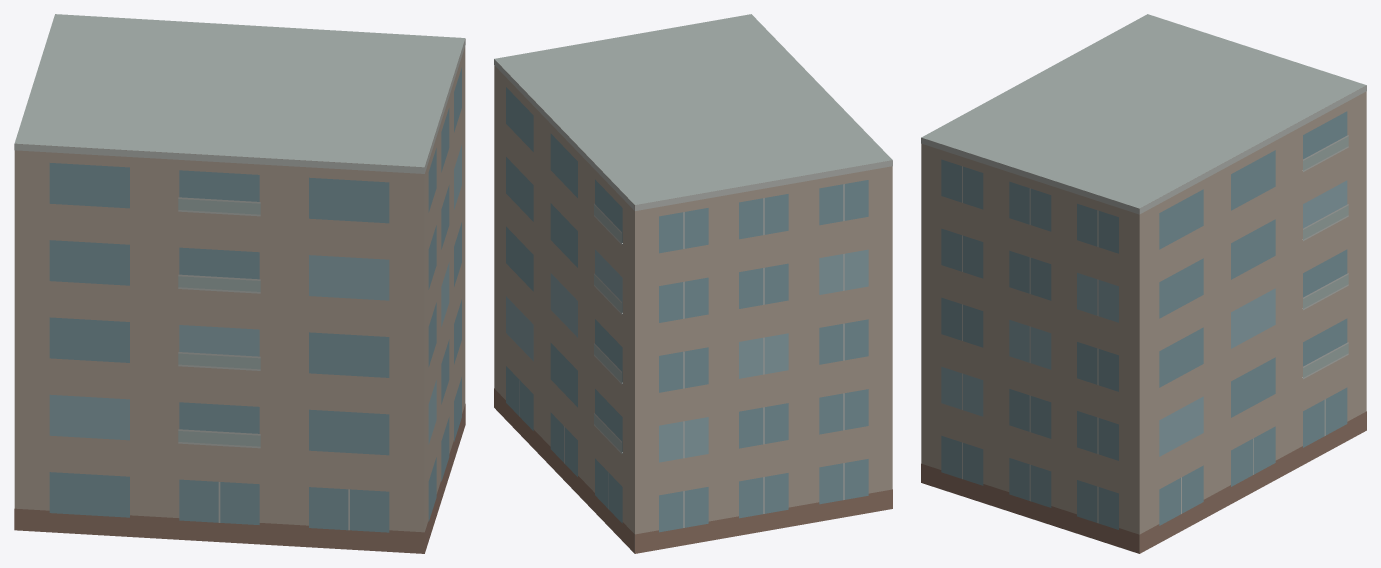
File: survey-upis-32953145.glb
The picture shows the model from 3 angles, left to right: view 1: azimuth 30°, elevation 25°; view 2: azimuth 150°, elevation 25°; view 3: azimuth 270°, elevation 25°; orthographic projection. The views are drawn at different scales.
Visible parts, largest first — view 1: survey-upis-32953145.tmp; view 2: survey-upis-32953145.tmp; view 3: survey-upis-32953145.tmp.
Part boxes in pixels (x1,y1,x2,y2): survey-upis-32953145.tmp: (14, 14, 465, 553); survey-upis-32953145.tmp: (494, 14, 892, 553); survey-upis-32953145.tmp: (921, 14, 1366, 553).
Bounding box in the file's own units: 16.99 × 14.05 × 16.44.
